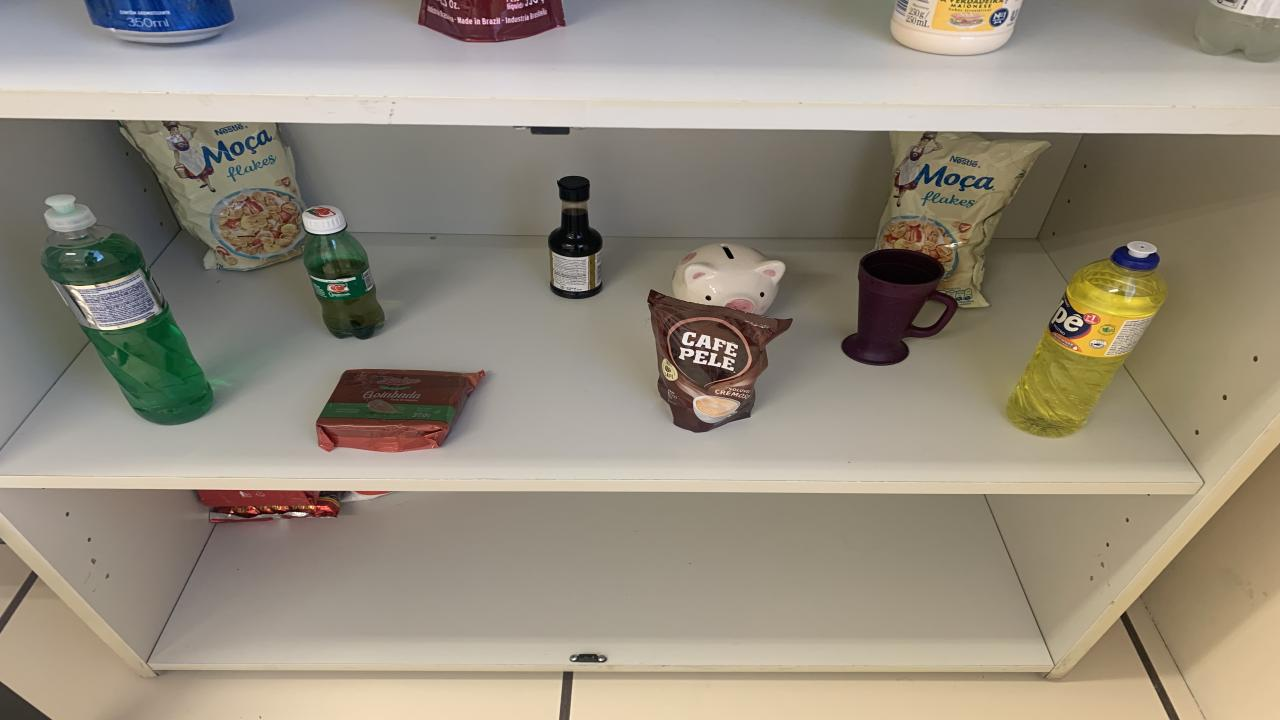Coffee-Pantry_Items: (648, 291, 792, 431)
Detergent-Cleanup_Items: (40, 195, 212, 426), (1008, 242, 1168, 437)
English_Sauce-Pantry_Items: (548, 176, 602, 298)
Flakes-Snacks: (875, 131, 1050, 308), (120, 120, 305, 270)
Guarana-Drinks: (302, 206, 385, 339)
Guava-Snacks: (318, 369, 485, 452)
Mayonnaise-Pantry_Items: (890, 0, 1022, 54)
Pig_Safe-Miscellaneous: (672, 244, 785, 315)
Soda-Drinks: (1195, 0, 1280, 62)
Tomato_Sauce-Pantry_Items: (418, 0, 565, 43)
Tonic-Drinks: (85, 0, 235, 43)
